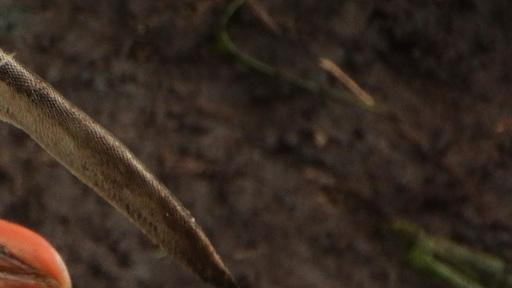Southern Rockhopper Penguin: (0, 2, 92, 288)
